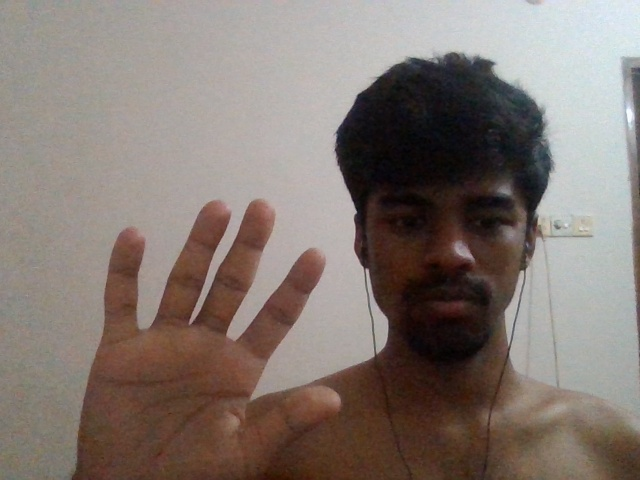Hello: (76, 194, 345, 480)
